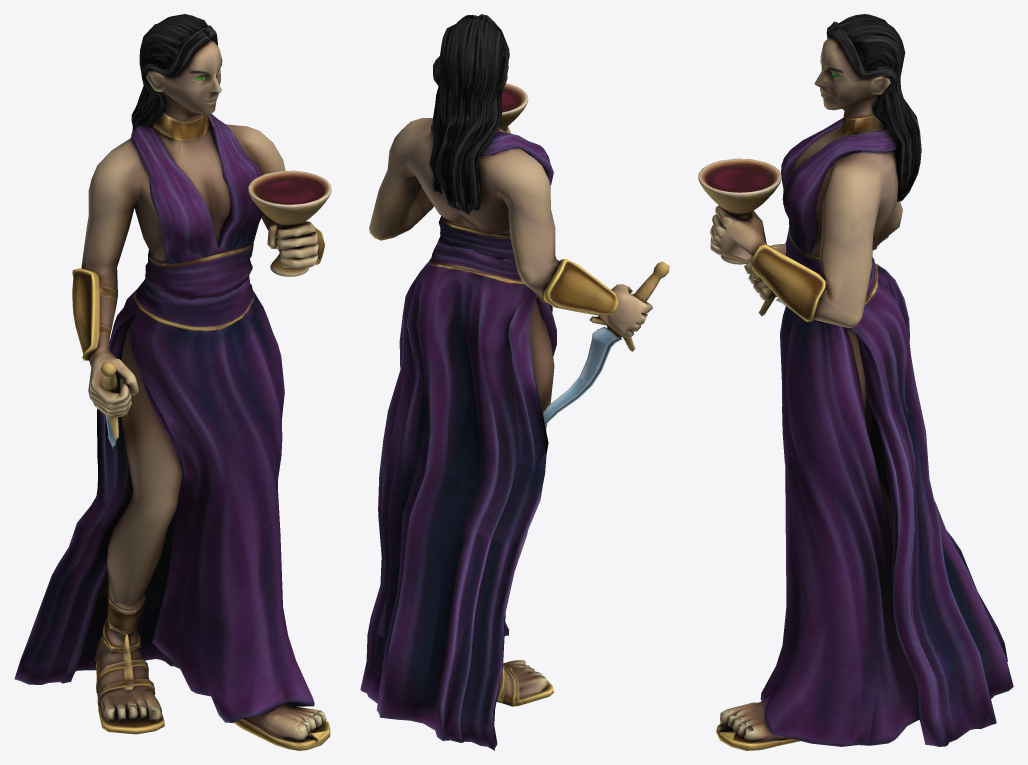
Rendered from MZ4250 - Yuan-Ti Pureblood (Female).glb.
3 renders of one model, left to right at view 1: azimuth 30°, elevation 25°; view 2: azimuth 150°, elevation 25°; view 3: azimuth 270°, elevation 25°, orthographic. The views are drawn at different scales.
Parts seen in each view (by area): view 1: body_low.001, cup_low.001, dagger_low.001; view 2: body_low.001, dagger_low.001, cup_low.001; view 3: body_low.001, cup_low.001.
Part boxes in pixels (<box>): body_low.001: <box>14,14,330,750</box>; cup_low.001: <box>248,170,331,276</box>; dagger_low.001: <box>100,362,118,449</box>; body_low.001: <box>360,14,652,750</box>; dagger_low.001: <box>543,261,669,424</box>; cup_low.001: <box>499,83,528,129</box>; body_low.001: <box>710,14,1013,750</box>; cup_low.001: <box>698,158,781,264</box>.
Bounding box in the file's own units: 2.62 × 6.61 × 2.74.
Materials: 1 (1 with a texture image).
